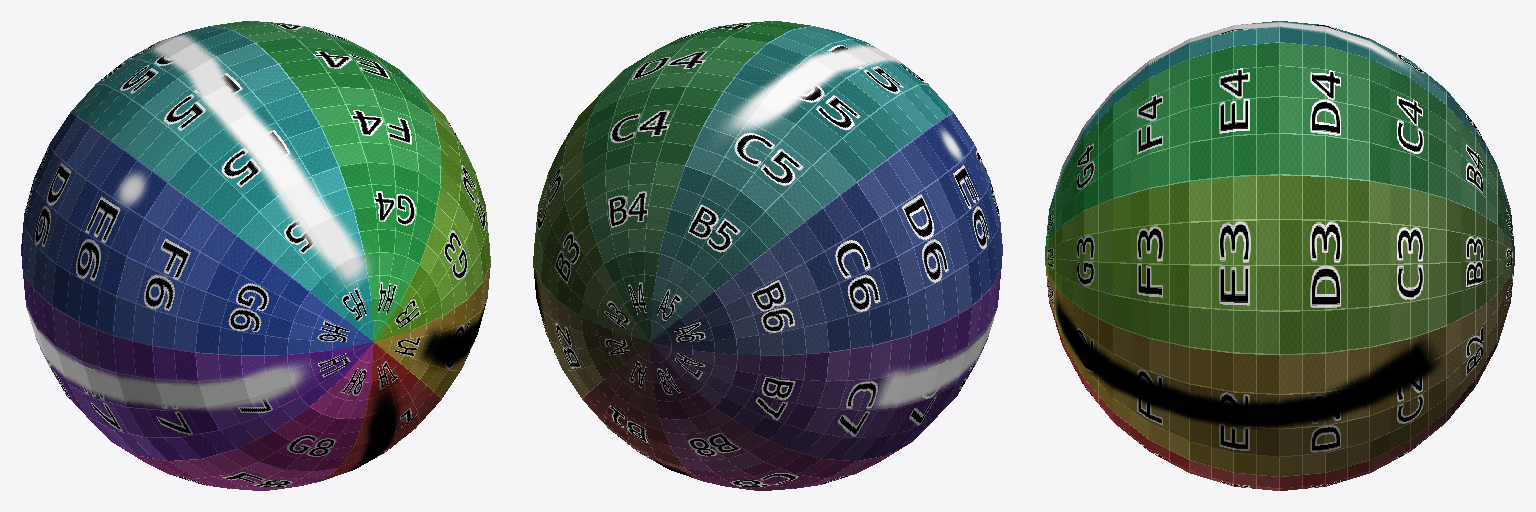
The picture shows the model from 3 angles: view 1: azimuth 30°, elevation 25°; view 2: azimuth 150°, elevation 25°; view 3: azimuth 270°, elevation 25°; orthographic projection.
Visible parts, largest first — view 1: Sphere; view 2: Sphere; view 3: Sphere.
Boxes of the visible parts, <box> form: Sphere: <box>21,21,490,490</box>; Sphere: <box>533,21,1002,490</box>; Sphere: <box>1045,21,1514,490</box>.
Bounding box in the file's own units: 2 × 2 × 2.
Materials: 1 (1 with a texture image).